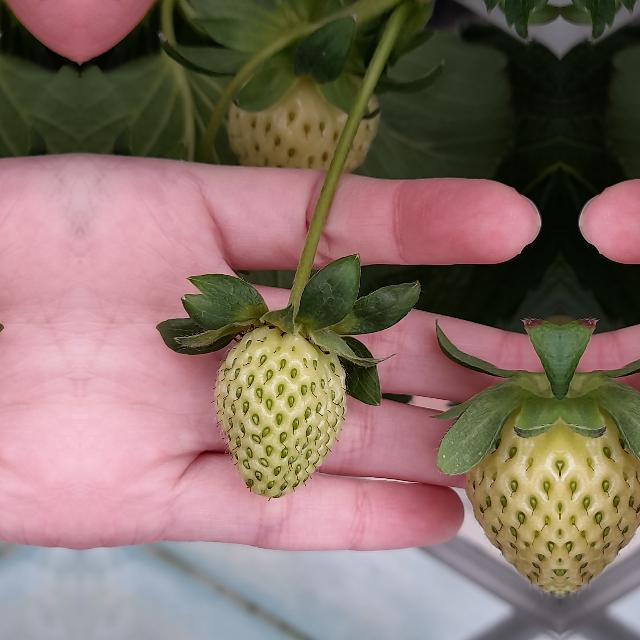Health_25: (214, 325, 346, 497), (465, 399, 559, 601), (561, 399, 640, 601)
